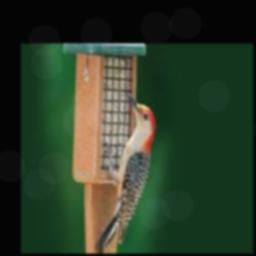Woodpecker: (95, 92, 155, 251)
